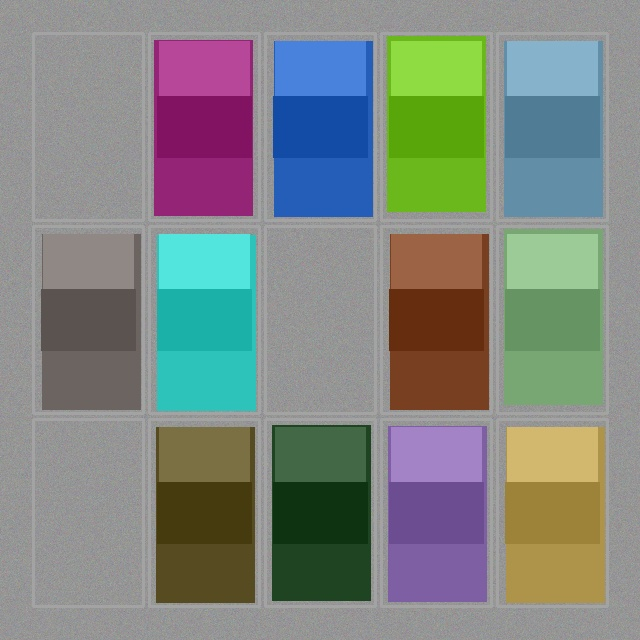space-empty: (35, 35, 141, 218), (267, 228, 373, 411), (35, 421, 141, 604)
space-occupied: (151, 35, 257, 218), (267, 35, 373, 218), (383, 35, 489, 218), (499, 35, 605, 218), (35, 228, 141, 411), (151, 228, 257, 411), (383, 228, 489, 411), (499, 228, 605, 411), (151, 421, 257, 604), (267, 421, 373, 604), (383, 421, 489, 604), (499, 421, 605, 604)
